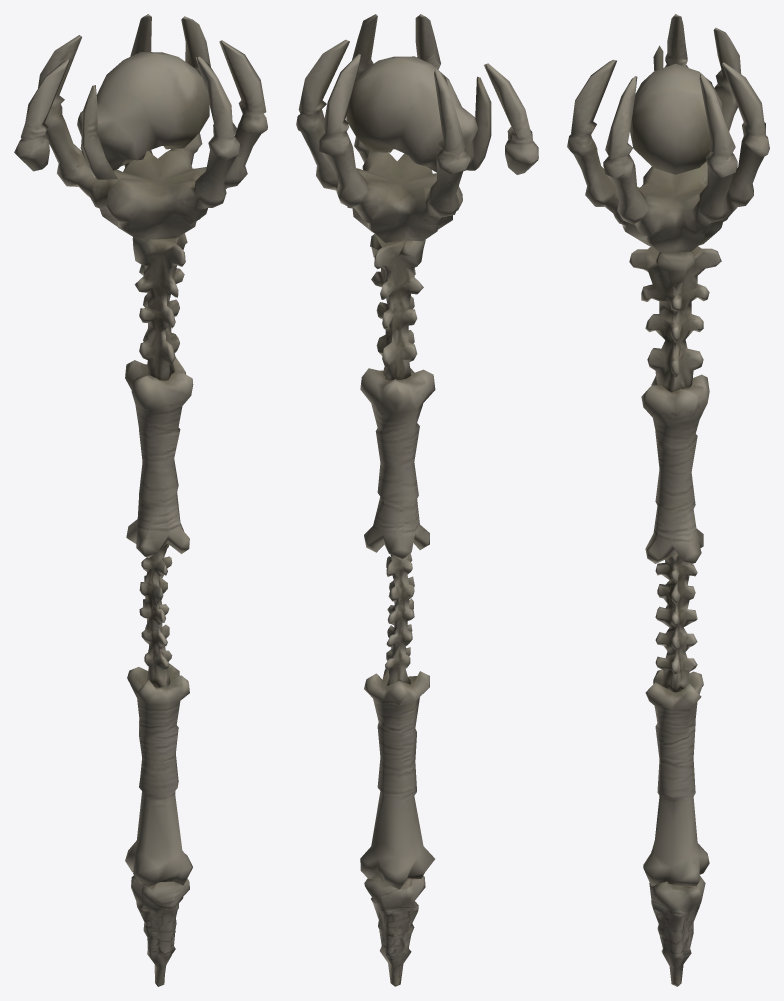
The model's file is gear_staff.glb.
3 renders of one model, left to right at view 1: azimuth 30°, elevation 25°; view 2: azimuth 150°, elevation 25°; view 3: azimuth 270°, elevation 25°, orthographic. The views are drawn at different scales.
Parts seen in each view (by area): view 1: tripo_node_c0592869-5d2a-460f-8189-95d5d36cc5c2; view 2: tripo_node_c0592869-5d2a-460f-8189-95d5d36cc5c2; view 3: tripo_node_c0592869-5d2a-460f-8189-95d5d36cc5c2.
Boxes of the visible parts, <box> form: tripo_node_c0592869-5d2a-460f-8189-95d5d36cc5c2: <box>14,14,267,986</box>; tripo_node_c0592869-5d2a-460f-8189-95d5d36cc5c2: <box>296,14,538,986</box>; tripo_node_c0592869-5d2a-460f-8189-95d5d36cc5c2: <box>567,14,769,986</box>.
Size of the model in its own units: 0.4454 by 1.85 by 0.3656.
Materials: 1 (1 with a texture image).
